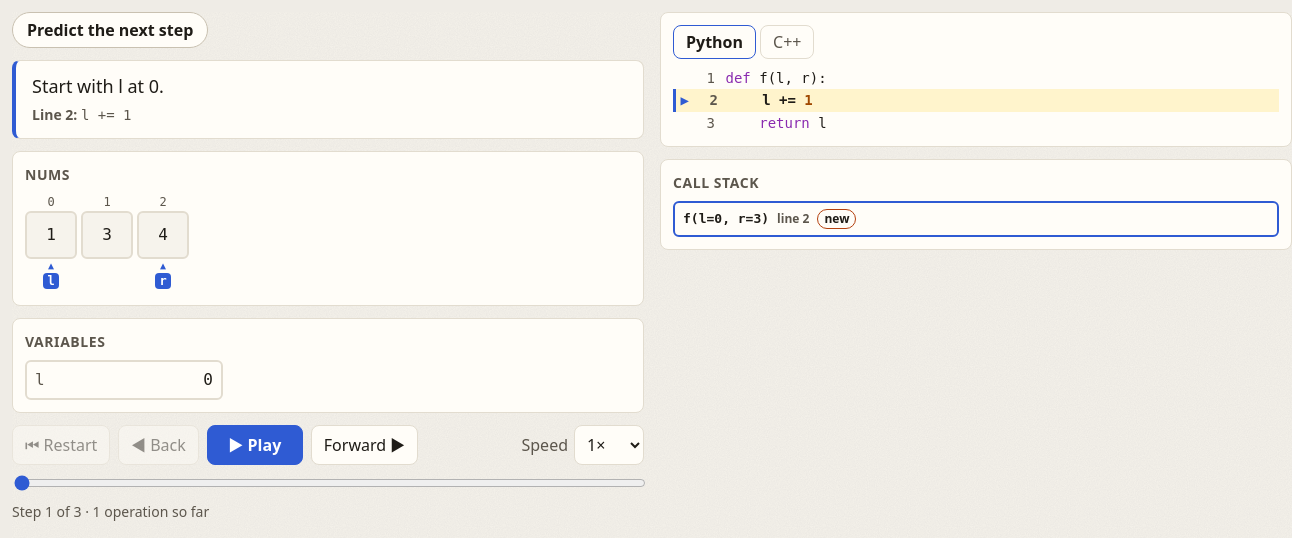
Test: the current line is highlighted in both languages
Expected: the element showing "▶ 2 l += 1" is shown, 673,89 -> 1279,112
Step 1. Press End
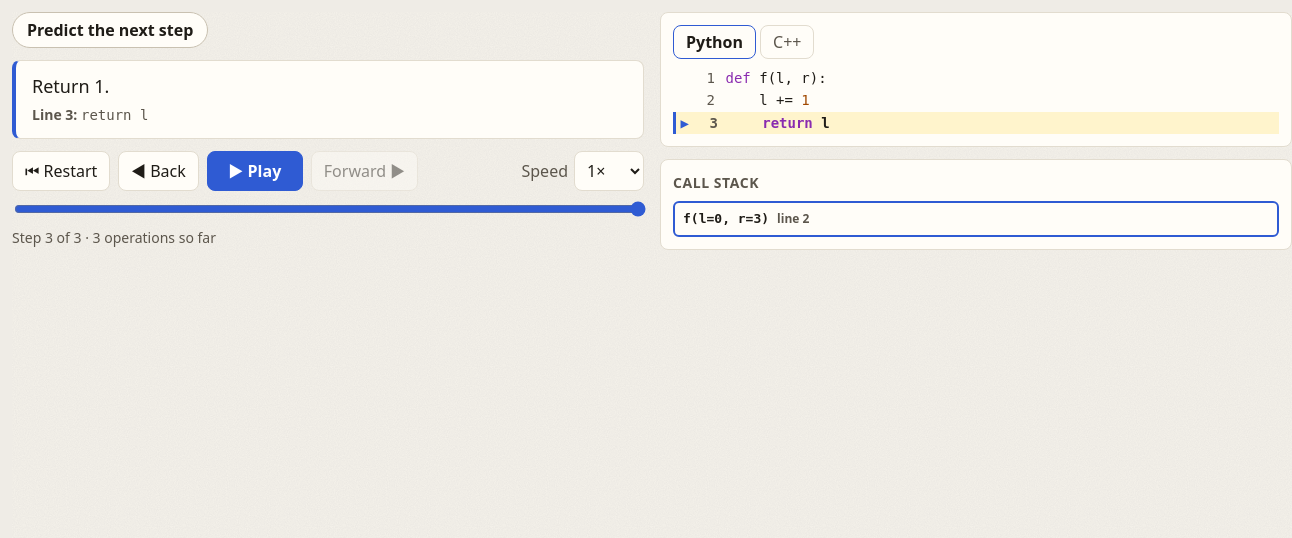
Expected: the element showing "▶ 3 return l" is shown, 673,112 -> 1279,134
Step 2. Click the button "C++" → click(787, 42), box 760,25 -> 814,59
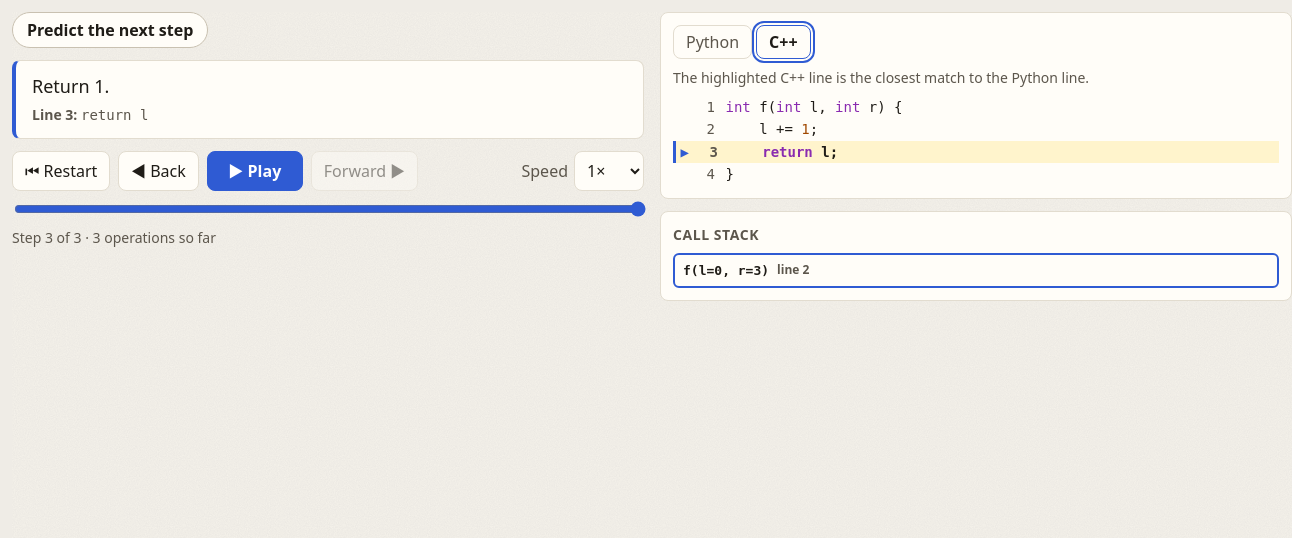
Expected: the element showing "▶ 3 return l;" is shown, 673,141 -> 1279,163
